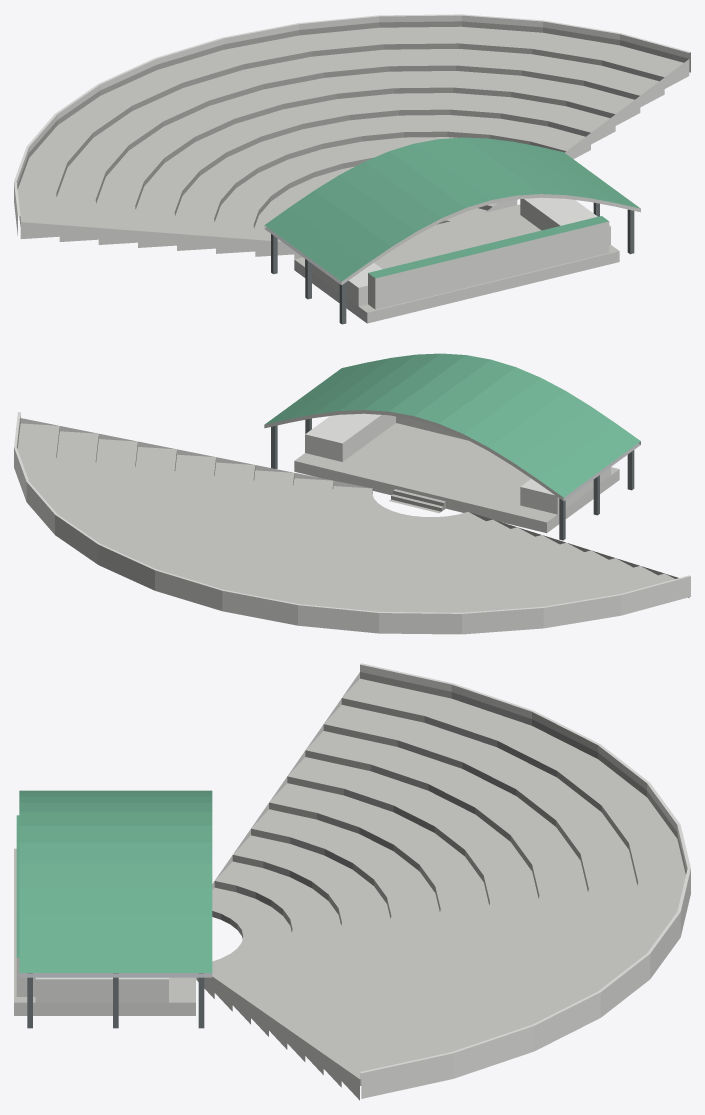
3 renders of one model, top to bottom at view 1: azimuth 30°, elevation 25°; view 2: azimuth 150°, elevation 25°; view 3: azimuth 270°, elevation 25°, orthographic. The views are drawn at different scales.
Visible parts, largest first — view 1: outdoorTheaterW9__seat, outdoorTheaterW9__roofAccent, outdoorTheaterW9__wall, outdoorTheaterW9__seatRiser, outdoorTheaterW9__trim, outdoorTheaterW9__roof, outdoorTheaterW9__frame; view 2: outdoorTheaterW9__seat, outdoorTheaterW9__roofAccent, outdoorTheaterW9__wall, outdoorTheaterW9__trim, outdoorTheaterW9__frame, outdoorTheaterW9__seatRiser; view 3: outdoorTheaterW9__seat, outdoorTheaterW9__roofAccent, outdoorTheaterW9__wall, outdoorTheaterW9__seatRiser, outdoorTheaterW9__trim, outdoorTheaterW9__frame, outdoorTheaterW9__canopy.
Boxes of the visible parts, left/top/right/bottom form: outdoorTheaterW9__seat: left=17, top=26, right=683, bottom=312; outdoorTheaterW9__roofAccent: left=264, top=137, right=640, bottom=281; outdoorTheaterW9__wall: left=14, top=15, right=690, bottom=309; outdoorTheaterW9__seatRiser: left=17, top=21, right=688, bottom=228; outdoorTheaterW9__trim: left=14, top=14, right=690, bottom=323; outdoorTheaterW9__roof: left=368, top=216, right=608, bottom=278; outdoorTheaterW9__frame: left=271, top=202, right=634, bottom=324; outdoorTheaterW9__seat: left=17, top=423, right=674, bottom=612; outdoorTheaterW9__roofAccent: left=265, top=353, right=640, bottom=497; outdoorTheaterW9__wall: left=14, top=413, right=690, bottom=634; outdoorTheaterW9__trim: left=14, top=410, right=690, bottom=613; outdoorTheaterW9__frame: left=271, top=418, right=634, bottom=540; outdoorTheaterW9__seatRiser: left=17, top=419, right=445, bottom=511; outdoorTheaterW9__seat: left=14, top=678, right=685, bottom=1078; outdoorTheaterW9__roofAccent: left=19, top=790, right=212, bottom=972; outdoorTheaterW9__wall: left=16, top=664, right=690, bottom=1100; outdoorTheaterW9__seatRiser: left=212, top=672, right=686, bottom=1085; outdoorTheaterW9__trim: left=14, top=663, right=690, bottom=1073; outdoorTheaterW9__frame: left=27, top=973, right=204, bottom=1028; outdoorTheaterW9__canopy: left=19, top=973, right=212, bottom=977.
Bounding box in the file's own units: 71.95 × 10.25 × 50.19.
